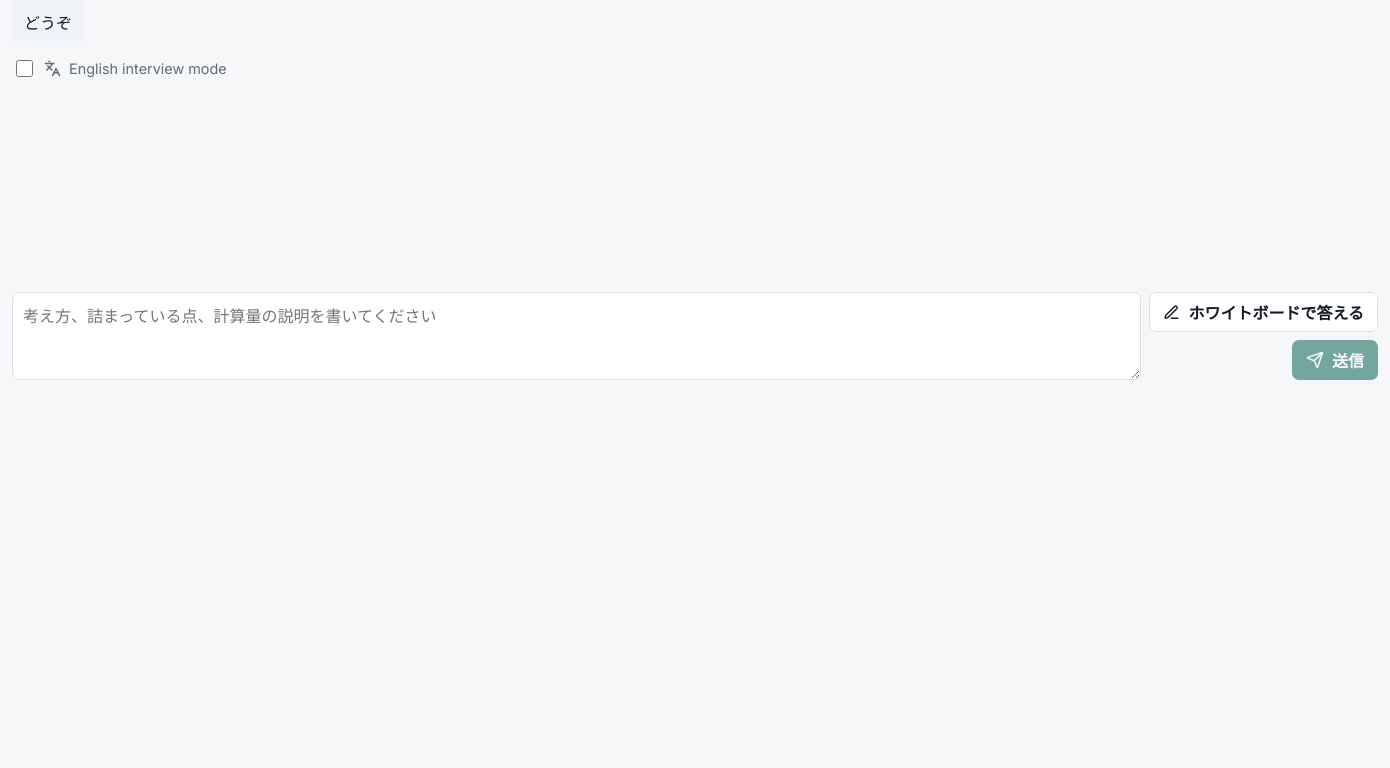
Test: AIChat › opens a voluntary composer with the kind selector
Step 1. Click the button "ホワイトボードで答える" → (1264, 312), box [1150,292,1378,332]
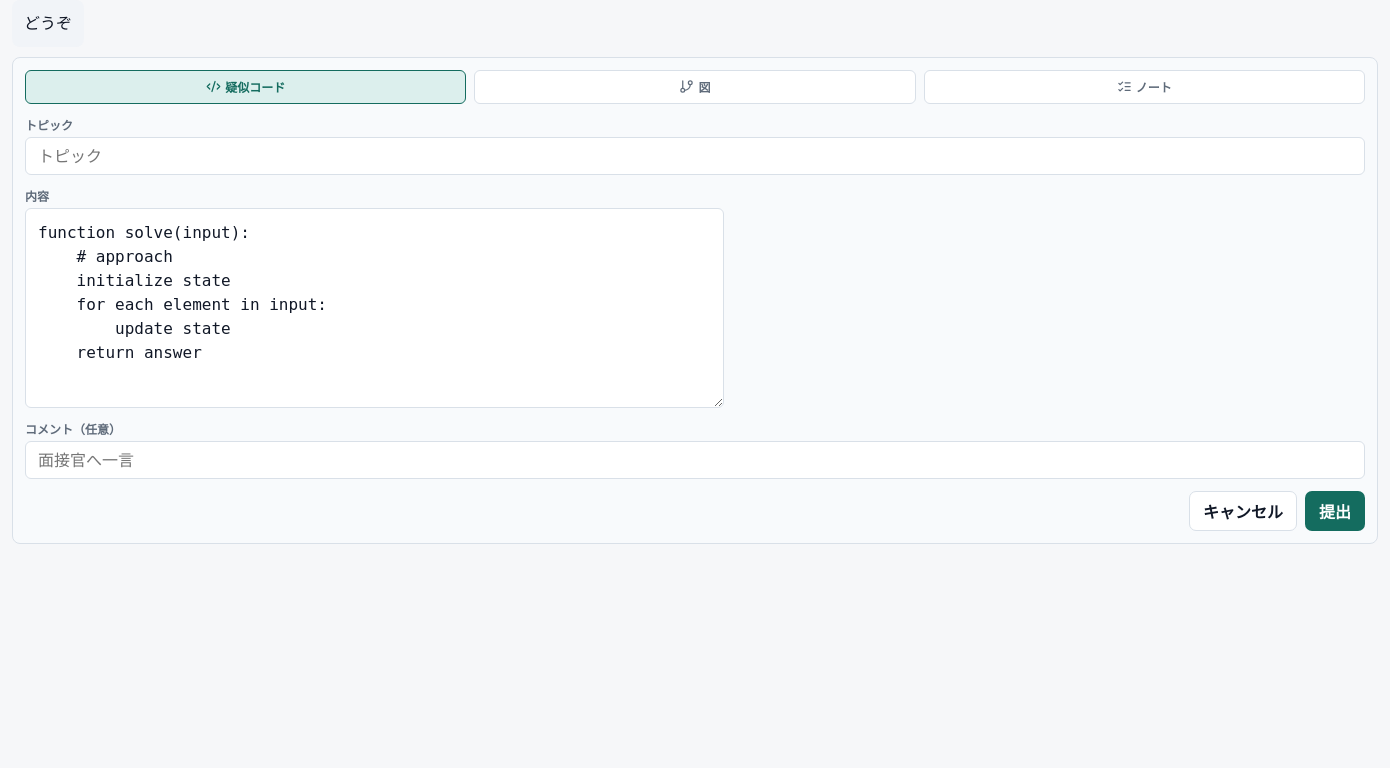
Result: the element named "回答の種類" is shown at [25,70,1365,104]
